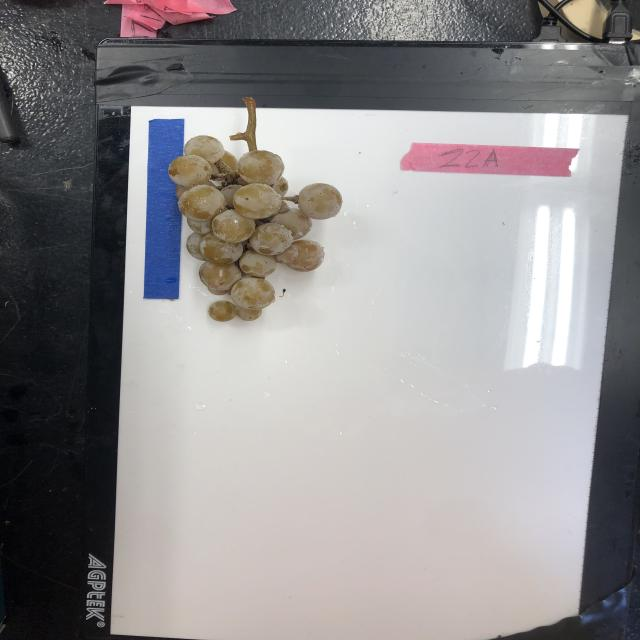grape_cluster: (168, 96, 345, 326)
index: (400, 139, 580, 179)
measure_label: (142, 114, 182, 300)
